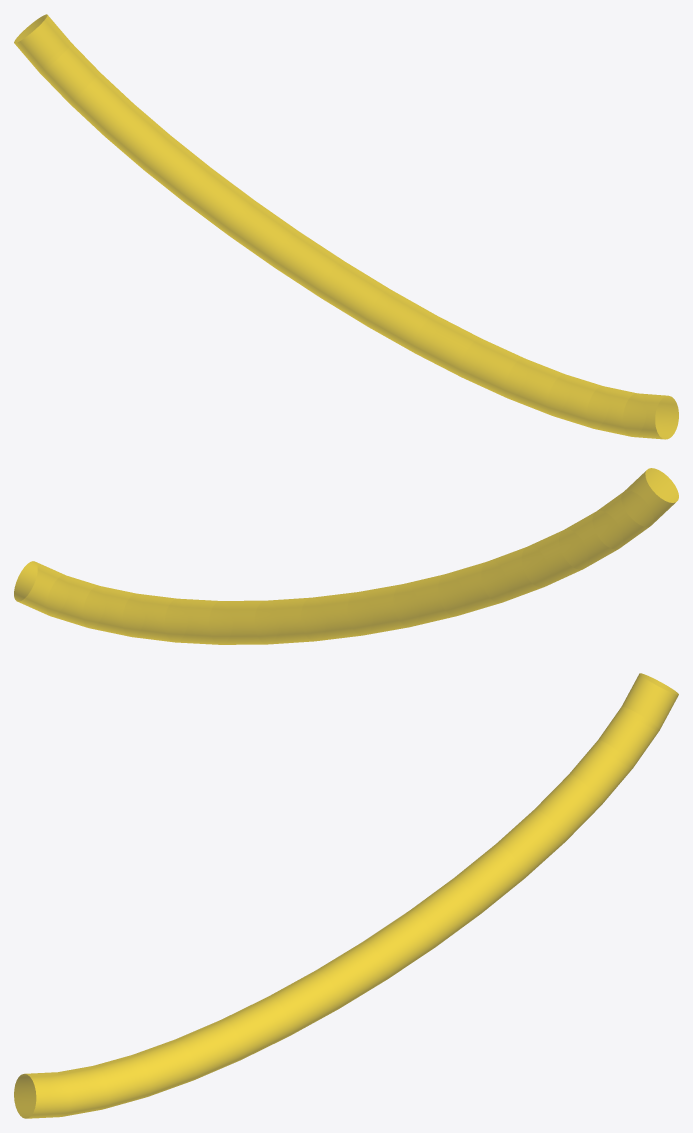
File: Event_27938768_track_48.fbx
3 views of the same model, one above another, from view 1: azimuth 30°, elevation 25°; view 2: azimuth 210°, elevation 25°; view 3: azimuth 270°, elevation 25° (orthographic). The views are drawn at different scales.
Visible parts, largest first — view 1: Model; view 2: Model; view 3: Model.
Part boxes in pixels (left/top/right/bottom): Model: left=14, top=14, right=678, bottom=439; Model: left=14, top=468, right=678, bottom=644; Model: left=14, top=673, right=678, bottom=1118.
Size of the model in its own units: 0.3792 by 0.2845 by 0.5903.
